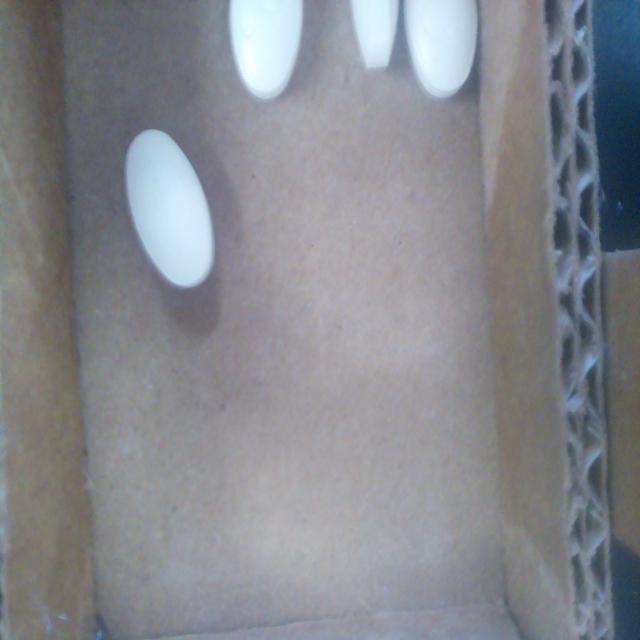pill: (125, 129, 214, 287), (229, 0, 303, 99), (404, 0, 478, 98), (350, 0, 399, 68)
